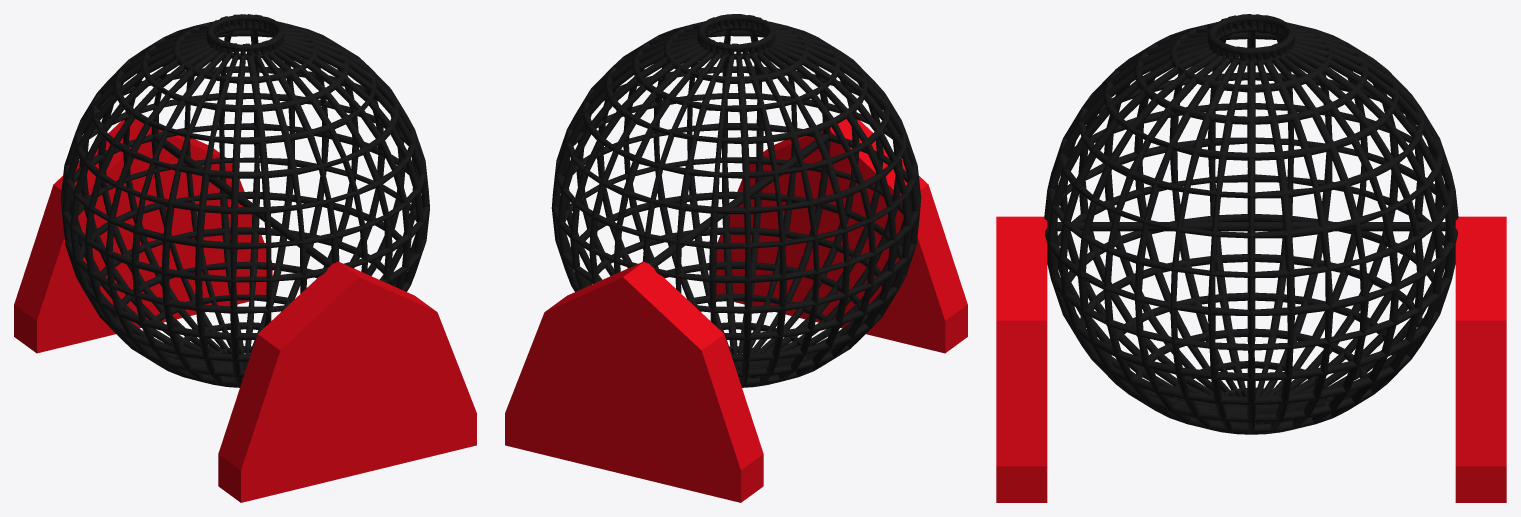
File: bombo.fbx
3 renders of one model, left to right at view 1: azimuth 30°, elevation 25°; view 2: azimuth 150°, elevation 25°; view 3: azimuth 270°, elevation 25°, orthographic. The views are drawn at different scales.
Visible parts, largest first — view 1: Drum, Holders, Rod; view 2: Drum, Holders, Rod; view 3: Drum, Holders, Rod.
Part boxes in pixels (<box>): Drum: <box>60,14,429,387</box>; Holders: <box>14,119,476,502</box>; Rod: <box>153,134,332,267</box>; Drum: <box>551,14,921,387</box>; Holders: <box>505,119,967,502</box>; Rod: <box>649,134,828,267</box>; Drum: <box>1044,14,1458,434</box>; Holders: <box>996,216,1506,502</box>; Rod: <box>1056,222,1446,231</box>.
Size of the model in its own units: 250 by 204 by 220.
